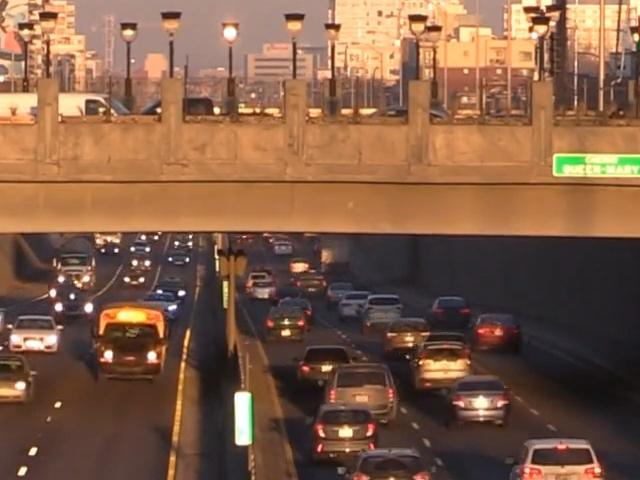car: (504, 433, 610, 480), (327, 361, 400, 424), (307, 401, 380, 462), (444, 376, 514, 430), (410, 341, 478, 395), (340, 448, 438, 480), (300, 345, 357, 391), (116, 290, 173, 335), (471, 310, 524, 354), (10, 314, 66, 355), (48, 278, 97, 322), (381, 317, 433, 358), (0, 352, 38, 406), (263, 304, 313, 343), (144, 283, 190, 322), (360, 293, 405, 330), (426, 295, 473, 330), (420, 329, 471, 359), (334, 290, 371, 319), (321, 282, 358, 310), (244, 270, 278, 298), (298, 275, 331, 300), (129, 240, 154, 258), (288, 258, 312, 275), (127, 256, 154, 270), (271, 240, 294, 256), (124, 271, 145, 286)
truck: (95, 305, 167, 381), (51, 251, 99, 294)
